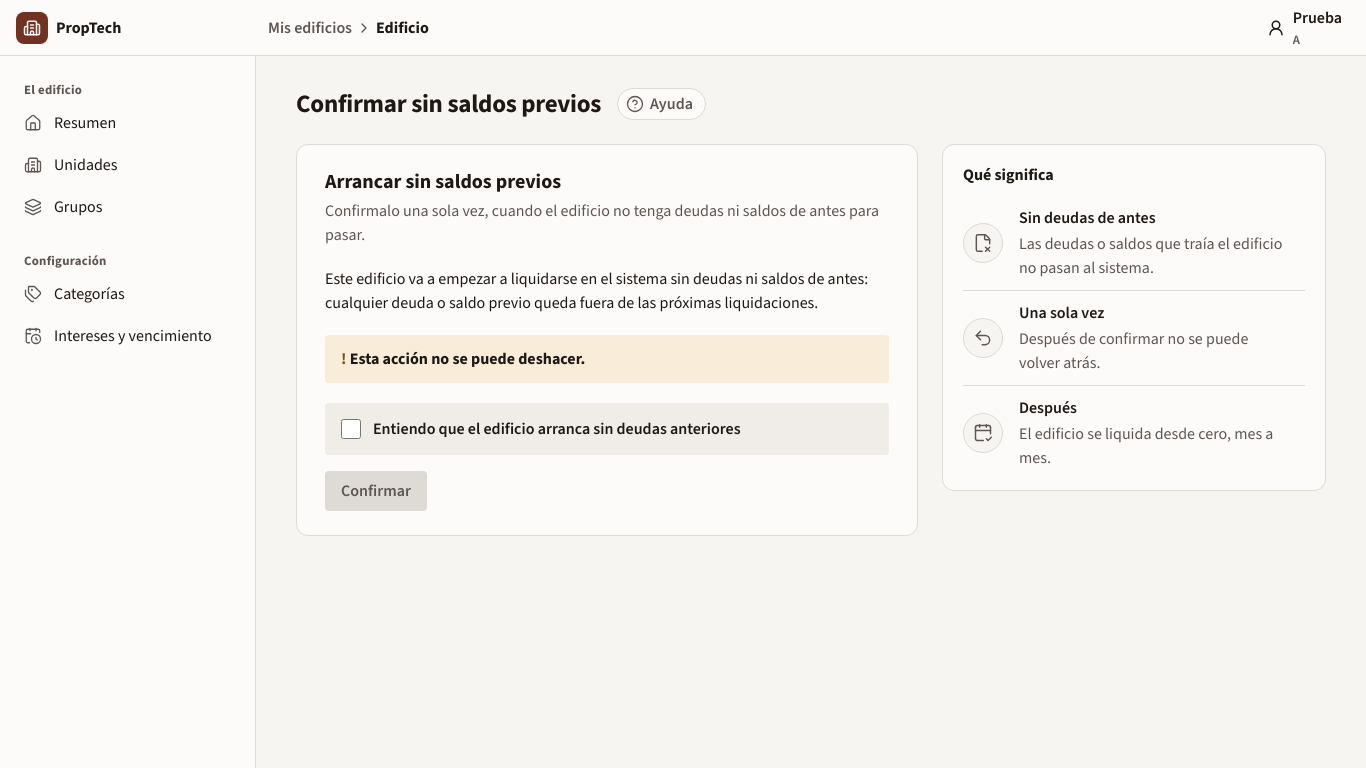
Scenario: R2D-R1: permiso de saldos conserva casilla y confirmar
Click the checkbox at coordinates (351, 429), box [341, 419, 361, 439]
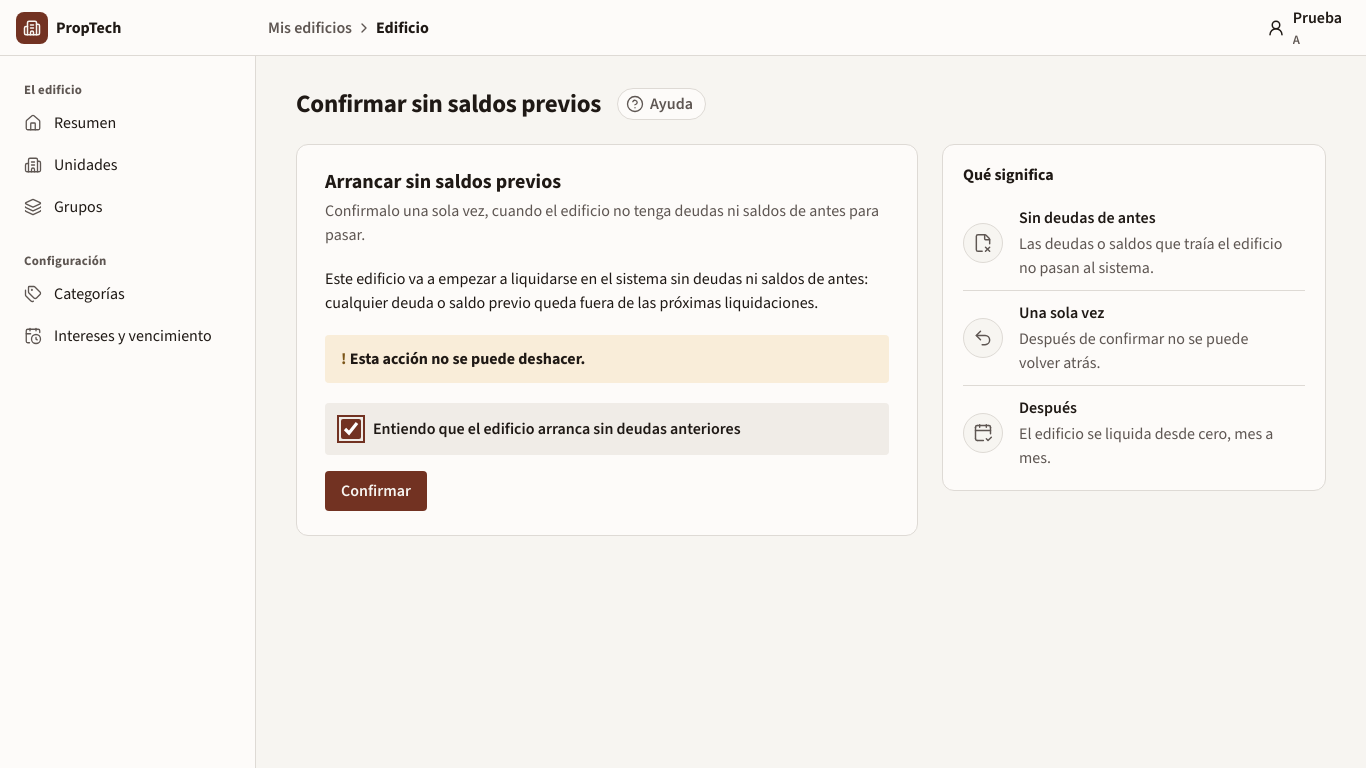
Expected: the button "Confirmar" is enabled, [325, 471, 427, 511]
